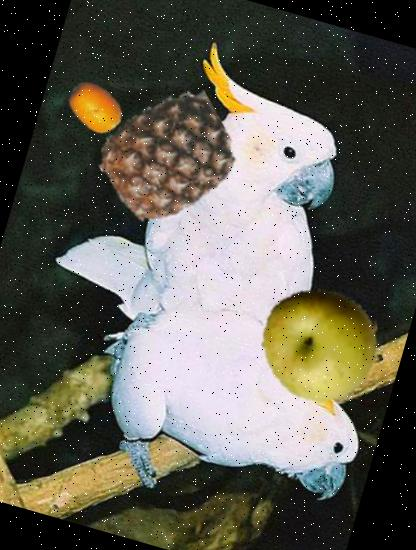Apple: (247, 272, 393, 417)
Kumquats: (59, 72, 131, 144)
Pineapple: (87, 78, 247, 238)
